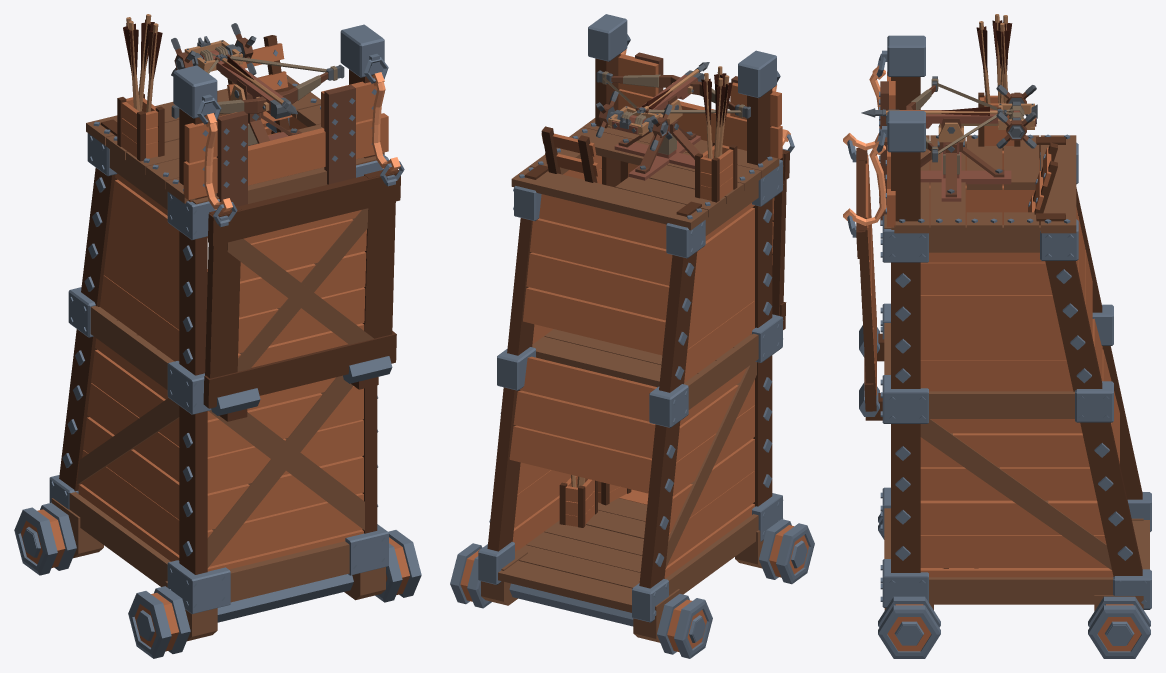
File: siege_tower.glb
3 renders of one model, left to right at view 1: azimuth 30°, elevation 25°; view 2: azimuth 150°, elevation 25°; view 3: azimuth 270°, elevation 25°, orthographic. The views are drawn at different scales.
Visible parts, largest first — view 1: Cube.128; view 2: Cube.128; view 3: Cube.128.
Part boxes in pixels (x1,y1,x2,y2): Cube.128: (14, 14, 421, 658); Cube.128: (450, 14, 814, 658); Cube.128: (843, 14, 1151, 658).
Size of the model in its own units: 679 by 1441 by 743.
